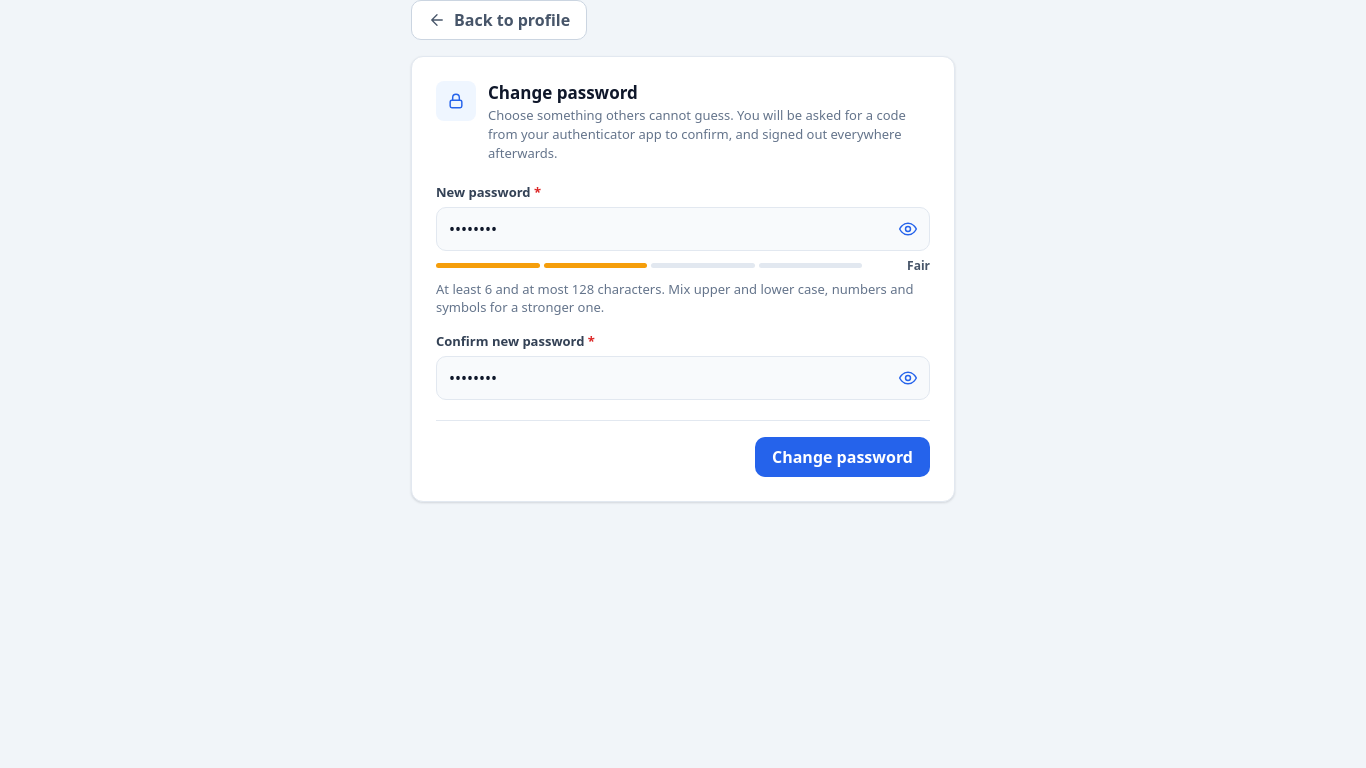
ChangePasswordComponent › does not send anything for an empty code
The width and height of the screenshot is (1366, 768).
Click the button "Change password": coordinates (842, 456) [755,436,930,476]
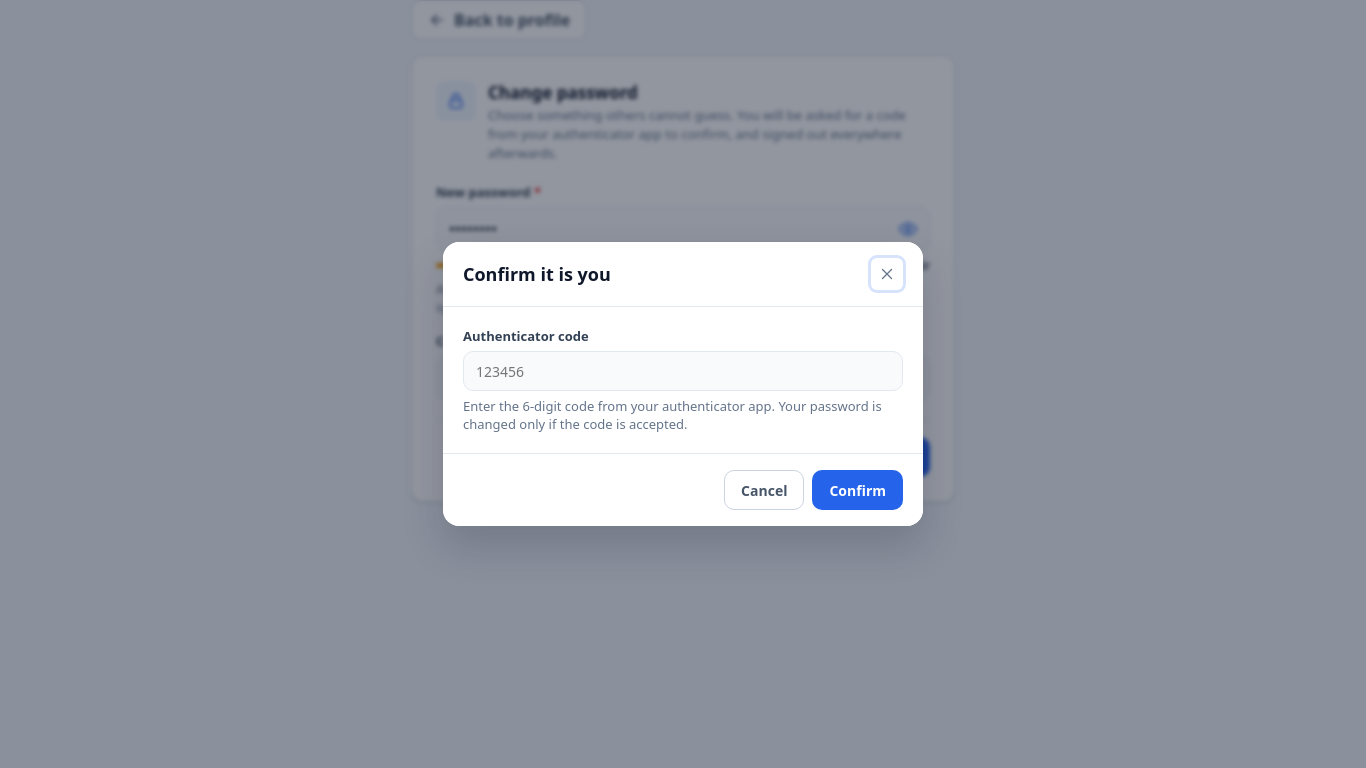
Click the button "Confirm": coordinates (858, 490) [812,470,903,510]
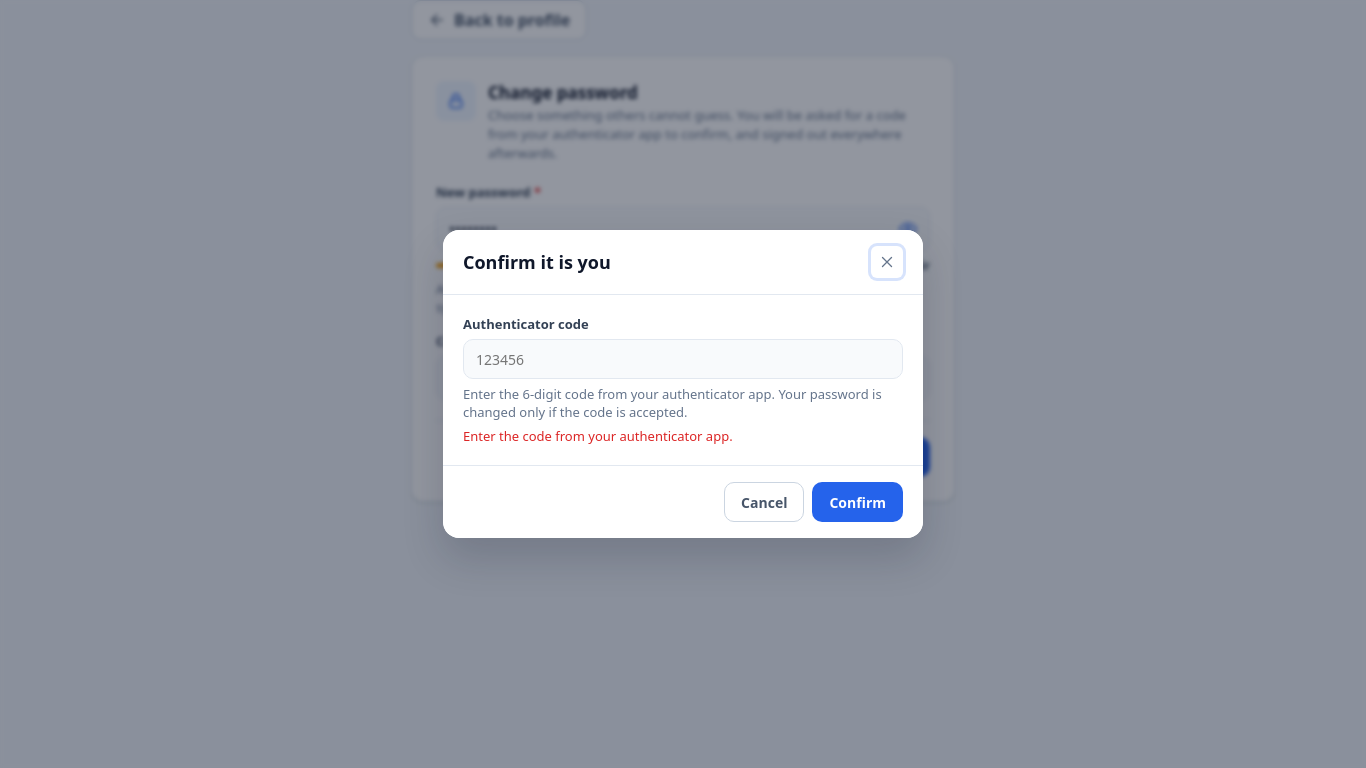
Check: the text "Enter the code from your authenticator app." is shown, box [463,427,733,445]
